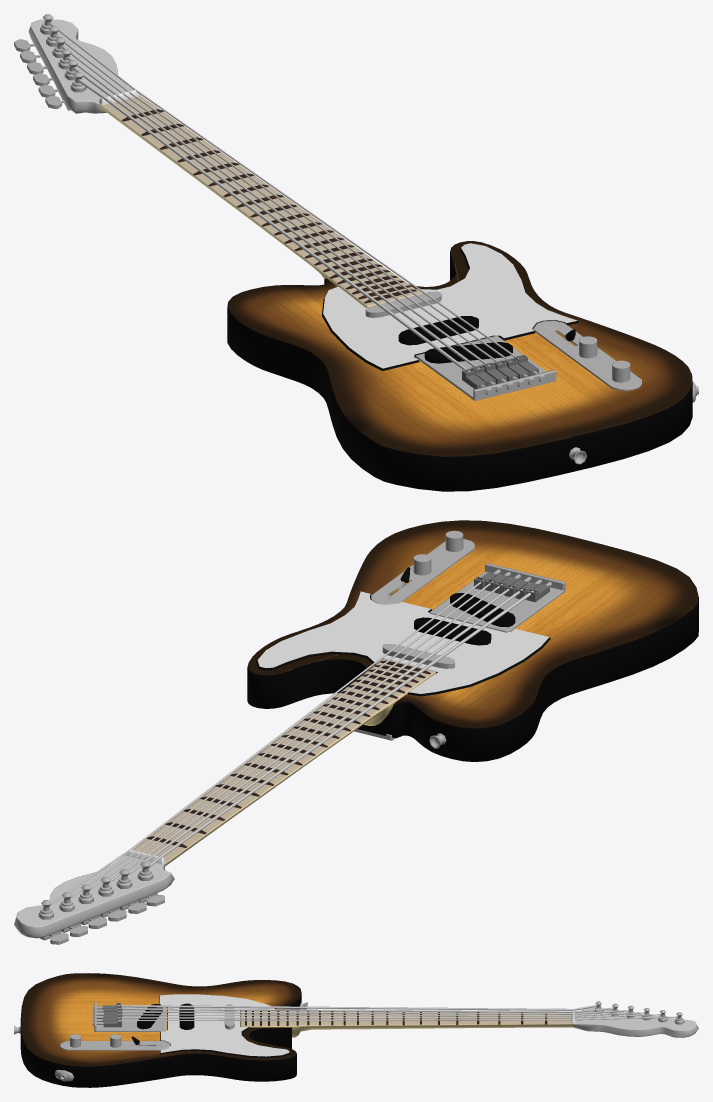
Rendered from Telecaster.fbx.
3 renders of one model, top to bottom at view 1: azimuth 30°, elevation 25°; view 2: azimuth 150°, elevation 25°; view 3: azimuth 270°, elevation 25°, orthographic. The views are drawn at different scales.
Visible parts, largest first — view 1: Telecaster_LOD0; view 2: Telecaster_LOD0; view 3: Telecaster_LOD0.
Boxes of the visible parts, bbox=[...] form: Telecaster_LOD0: bbox=[14, 14, 698, 491]; Telecaster_LOD0: bbox=[14, 520, 698, 944]; Telecaster_LOD0: bbox=[14, 973, 698, 1087].
Size of what is drawn, in the model's own units: 209 by 36.9 by 645.
